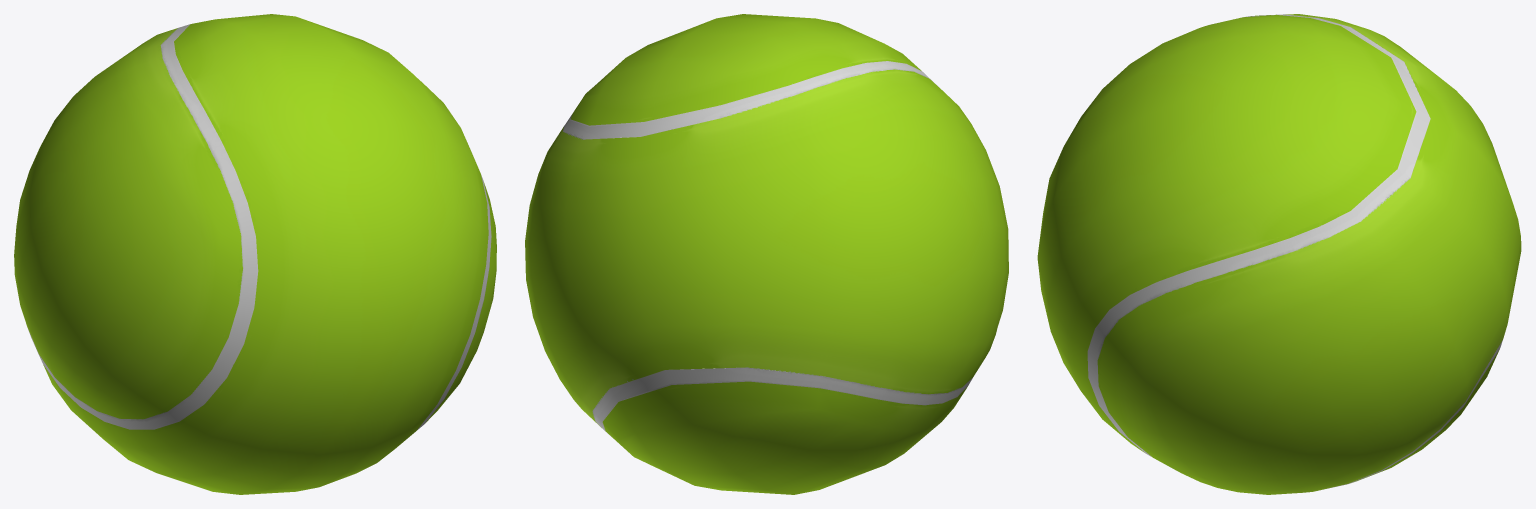
The model's file is tennis_Ball_obj.obj.
3 views of the same model, side by side, from view 1: azimuth 30°, elevation 25°; view 2: azimuth 150°, elevation 25°; view 3: azimuth 270°, elevation 25° (orthographic).
Visible parts, largest first — view 1: tennis Ball; view 2: tennis Ball; view 3: tennis Ball.
Part boxes in pixels (x1,y1,x2,y2): tennis Ball: (14, 14, 496, 494); tennis Ball: (525, 14, 1008, 494); tennis Ball: (1037, 14, 1521, 494).
Bounding box in the file's own units: 0.8405 × 0.8435 × 0.8429.
Materials: 1 (1 with a texture image).
